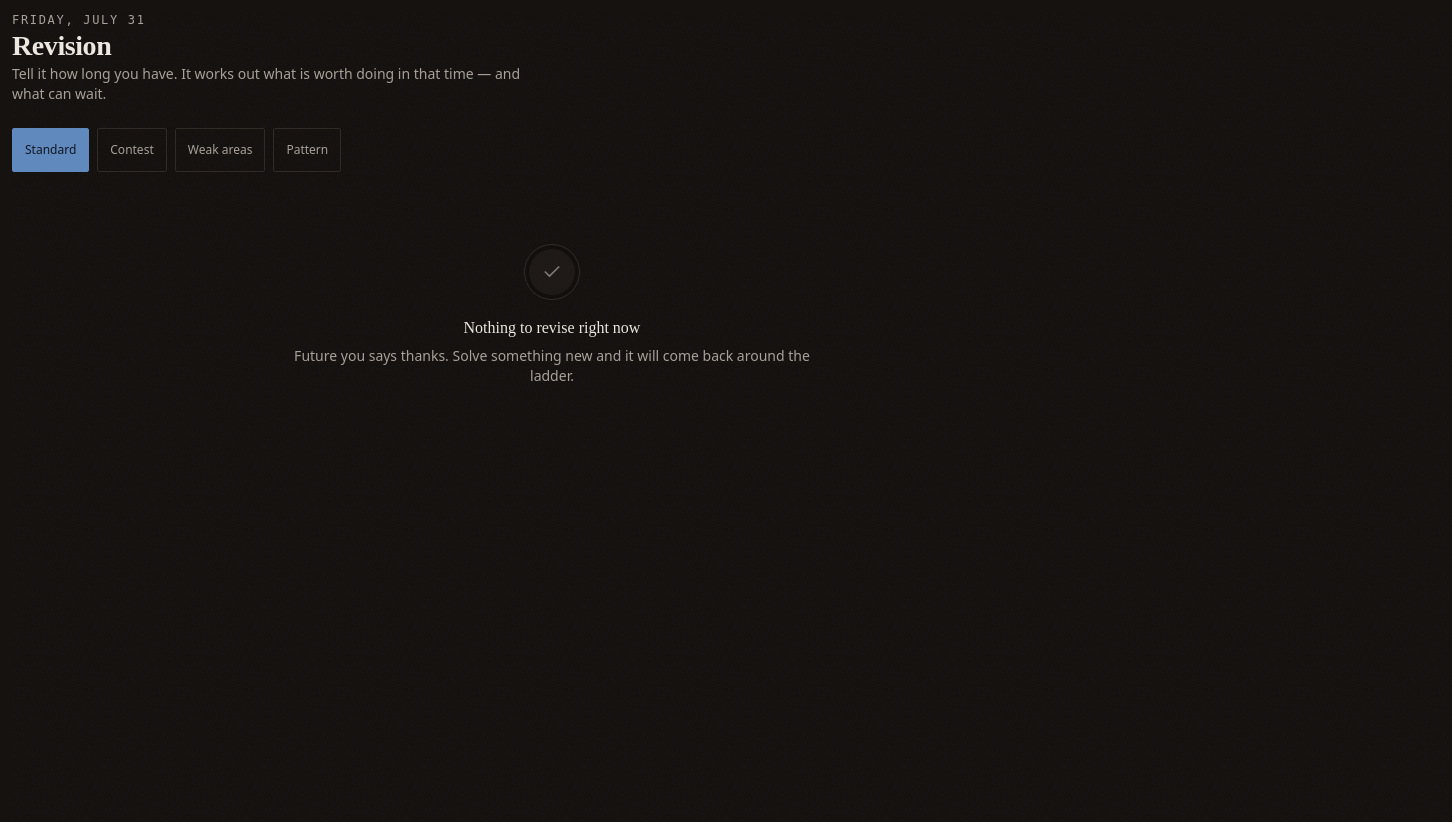
Test: Contest Revision — the pool, and what it claims › the ladder takes one grade per day — a graded row states the fact instead of offering buttons
This screenshot has width=1452, height=822.
Click the radio button labelled "Contest" at (132, 150), box [97,128,167,172]
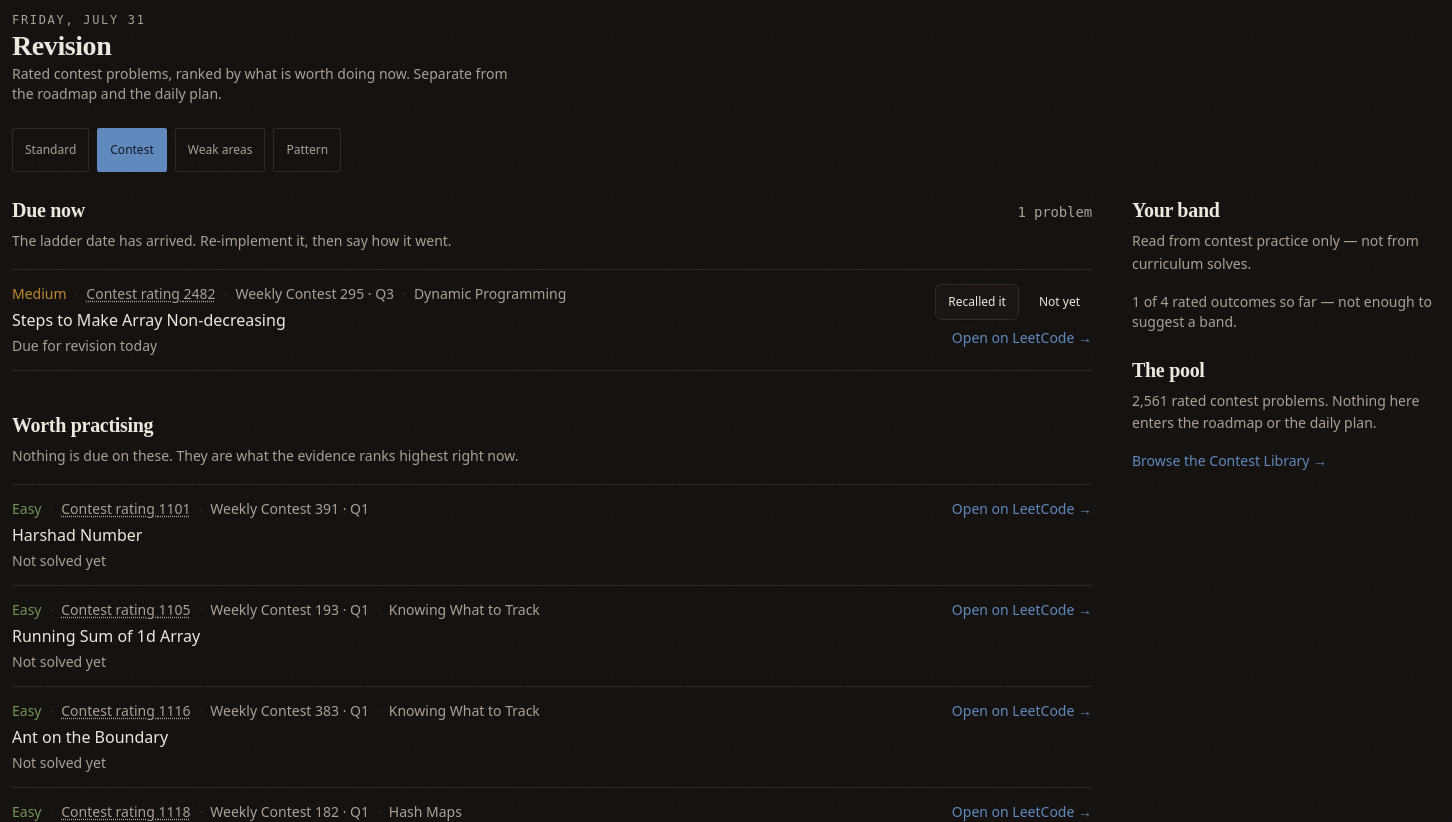
Click the button "Recalled it" at (977, 302), box [935,284,1019,320]
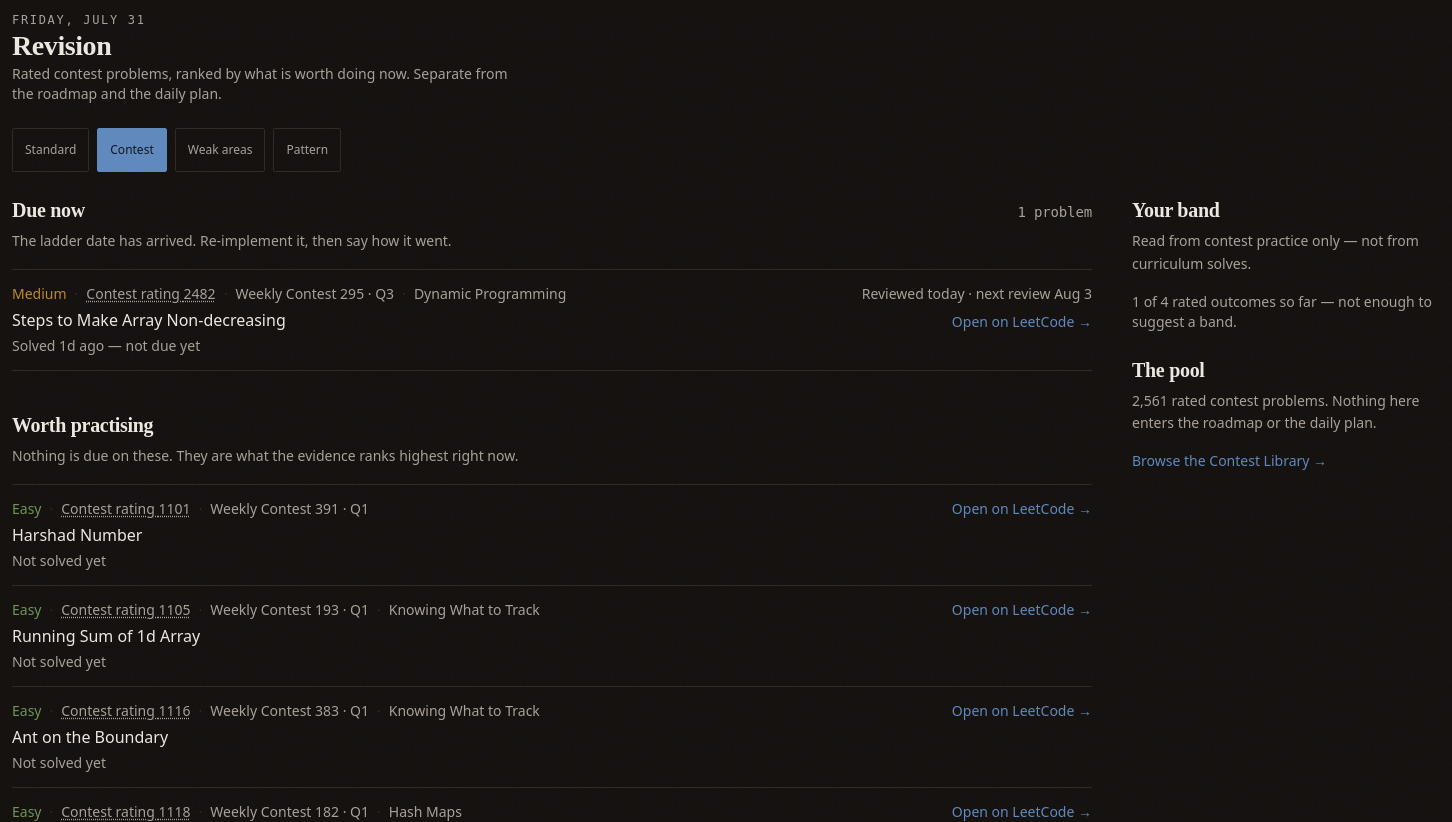
Now the text "Reviewed today · next review Aug 3" is shown, box [862,284,1092,304]
Now the button "Recalled it" is gone
